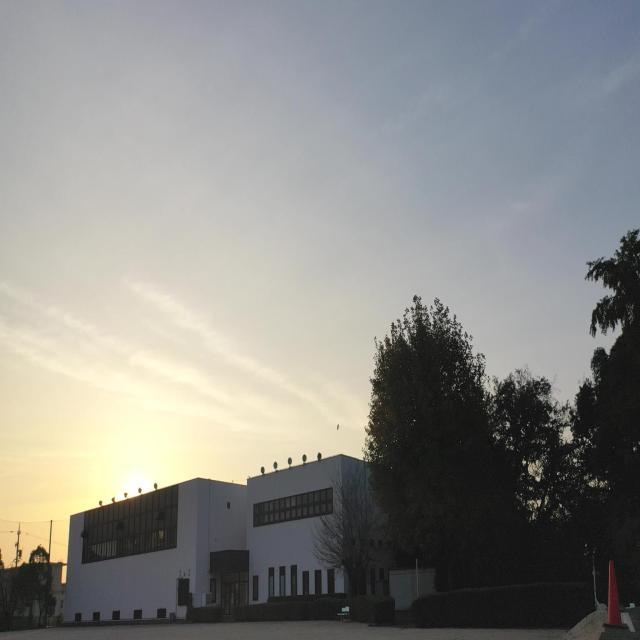Birds: (336, 422, 341, 430)
